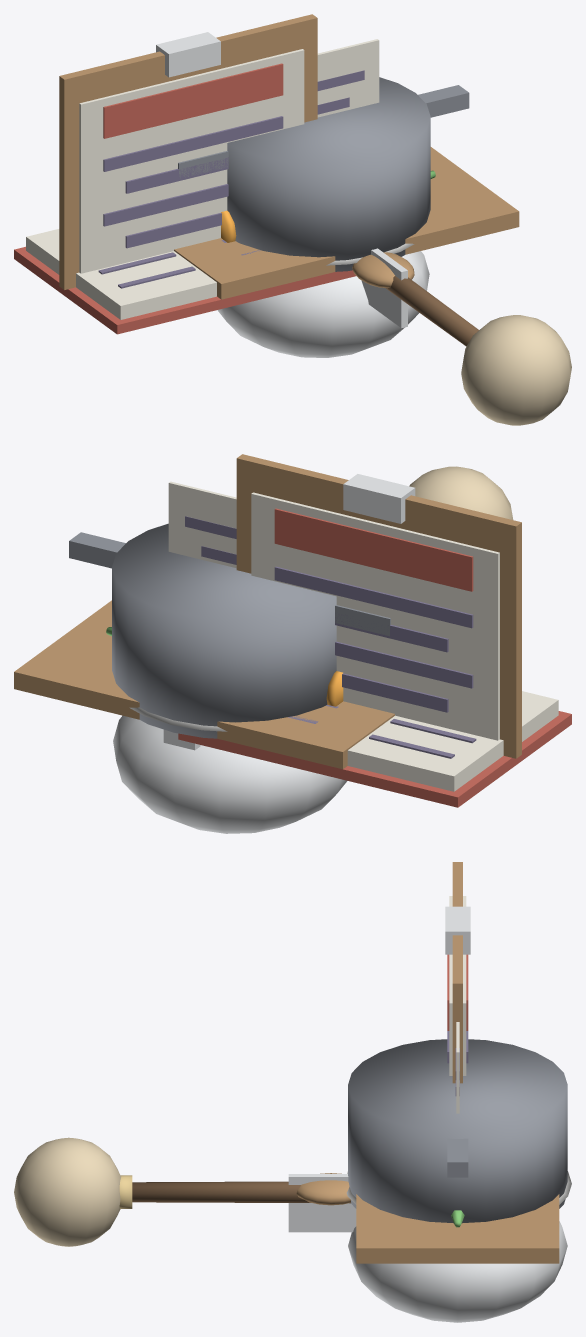
Rendered from chef-props.glb.
3 renders of one model, top to bottom at view 1: azimuth 30°, elevation 25°; view 2: azimuth 150°, elevation 25°; view 3: azimuth 270°, elevation 25°, orthographic. The views are drawn at different scales.
Parts seen in each view (by area): view 1: prop_recipe_card, prop_pot, prop_gong_mallet, prop_cookbook, prop_cutting_board, prop_cloche, prop_ticket, prop_knife, prop_spoon; view 2: prop_recipe_card, prop_pot, prop_cloche, prop_cookbook, prop_cutting_board, prop_ticket, prop_gong_mallet, prop_plate, prop_ingredient; view 3: prop_pot, prop_gong_mallet, prop_cutting_board, prop_cloche, prop_recipe_card, prop_knife, prop_spoon.
Boxes of the visible parts, box(x1,y1,x2,y2) form: prop_recipe_card: box(59, 14, 317, 289); prop_pot: box(178, 77, 469, 271); prop_gong_mallet: box(385, 276, 571, 425); prop_cookbook: box(14, 229, 355, 334); prop_cutting_board: box(174, 147, 519, 299); prop_cloche: box(217, 251, 429, 357); prop_ticket: box(317, 39, 379, 117); prop_knife: box(361, 248, 407, 328); prop_spoon: box(352, 252, 414, 288); prop_recipe_card: box(236, 454, 521, 758); prop_pot: box(69, 523, 390, 738); prop_cloche: box(113, 715, 347, 833); prop_cookbook: box(178, 691, 571, 807); prop_cutting_board: box(14, 600, 394, 769); prop_ticket: box(168, 481, 236, 568); prop_gong_mallet: box(409, 466, 513, 519); prop_plate: box(129, 707, 227, 731); prop_ingredient: box(106, 627, 343, 706); prop_pot: box(348, 1039, 567, 1223); prop_gong_mallet: box(14, 1137, 350, 1246); prop_cutting_board: box(356, 1194, 559, 1263); prop_cloche: box(348, 1221, 567, 1322); prop_recipe_card: box(445, 862, 470, 1083); prop_knife: box(288, 1174, 356, 1232); prop_spoon: box(296, 1173, 350, 1205).
Bounding box in the file's own units: 0.545 × 0.425 × 0.66.
